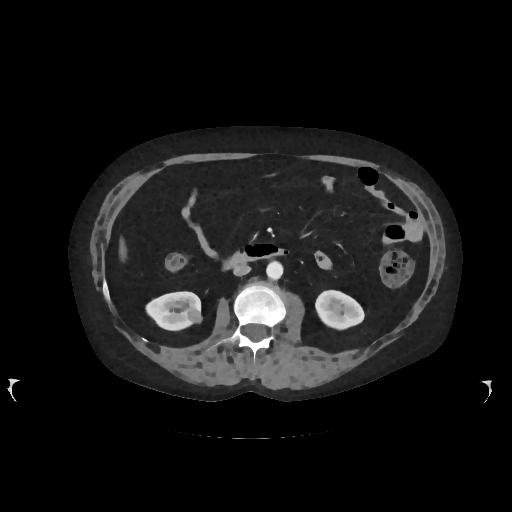Lesion: (185, 308, 205, 328)
